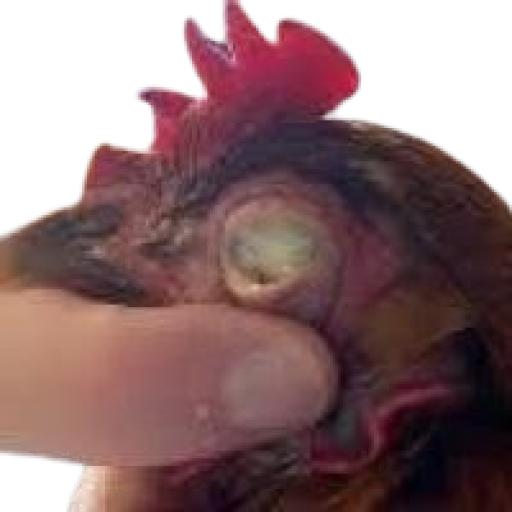disease: (112, 168, 382, 335), (172, 25, 289, 82)
